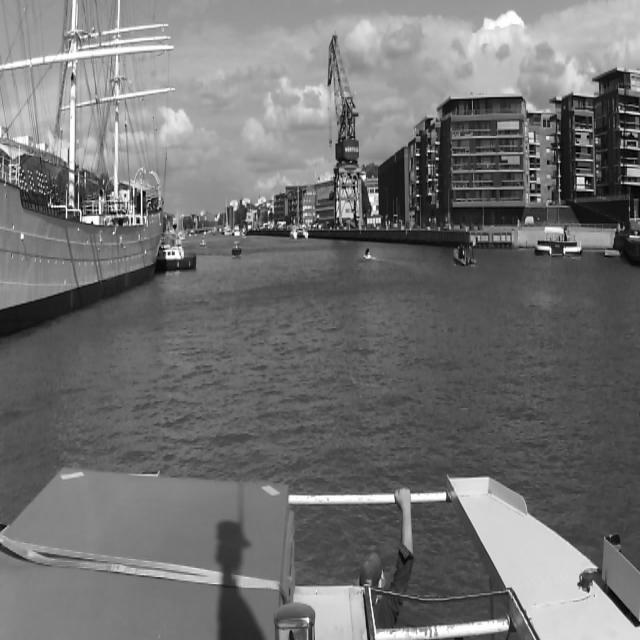ship: (0, 0, 160, 366), (286, 146, 310, 247), (532, 228, 584, 264), (155, 242, 201, 274), (450, 237, 477, 271), (228, 236, 244, 258), (363, 244, 373, 263), (199, 234, 207, 250)
